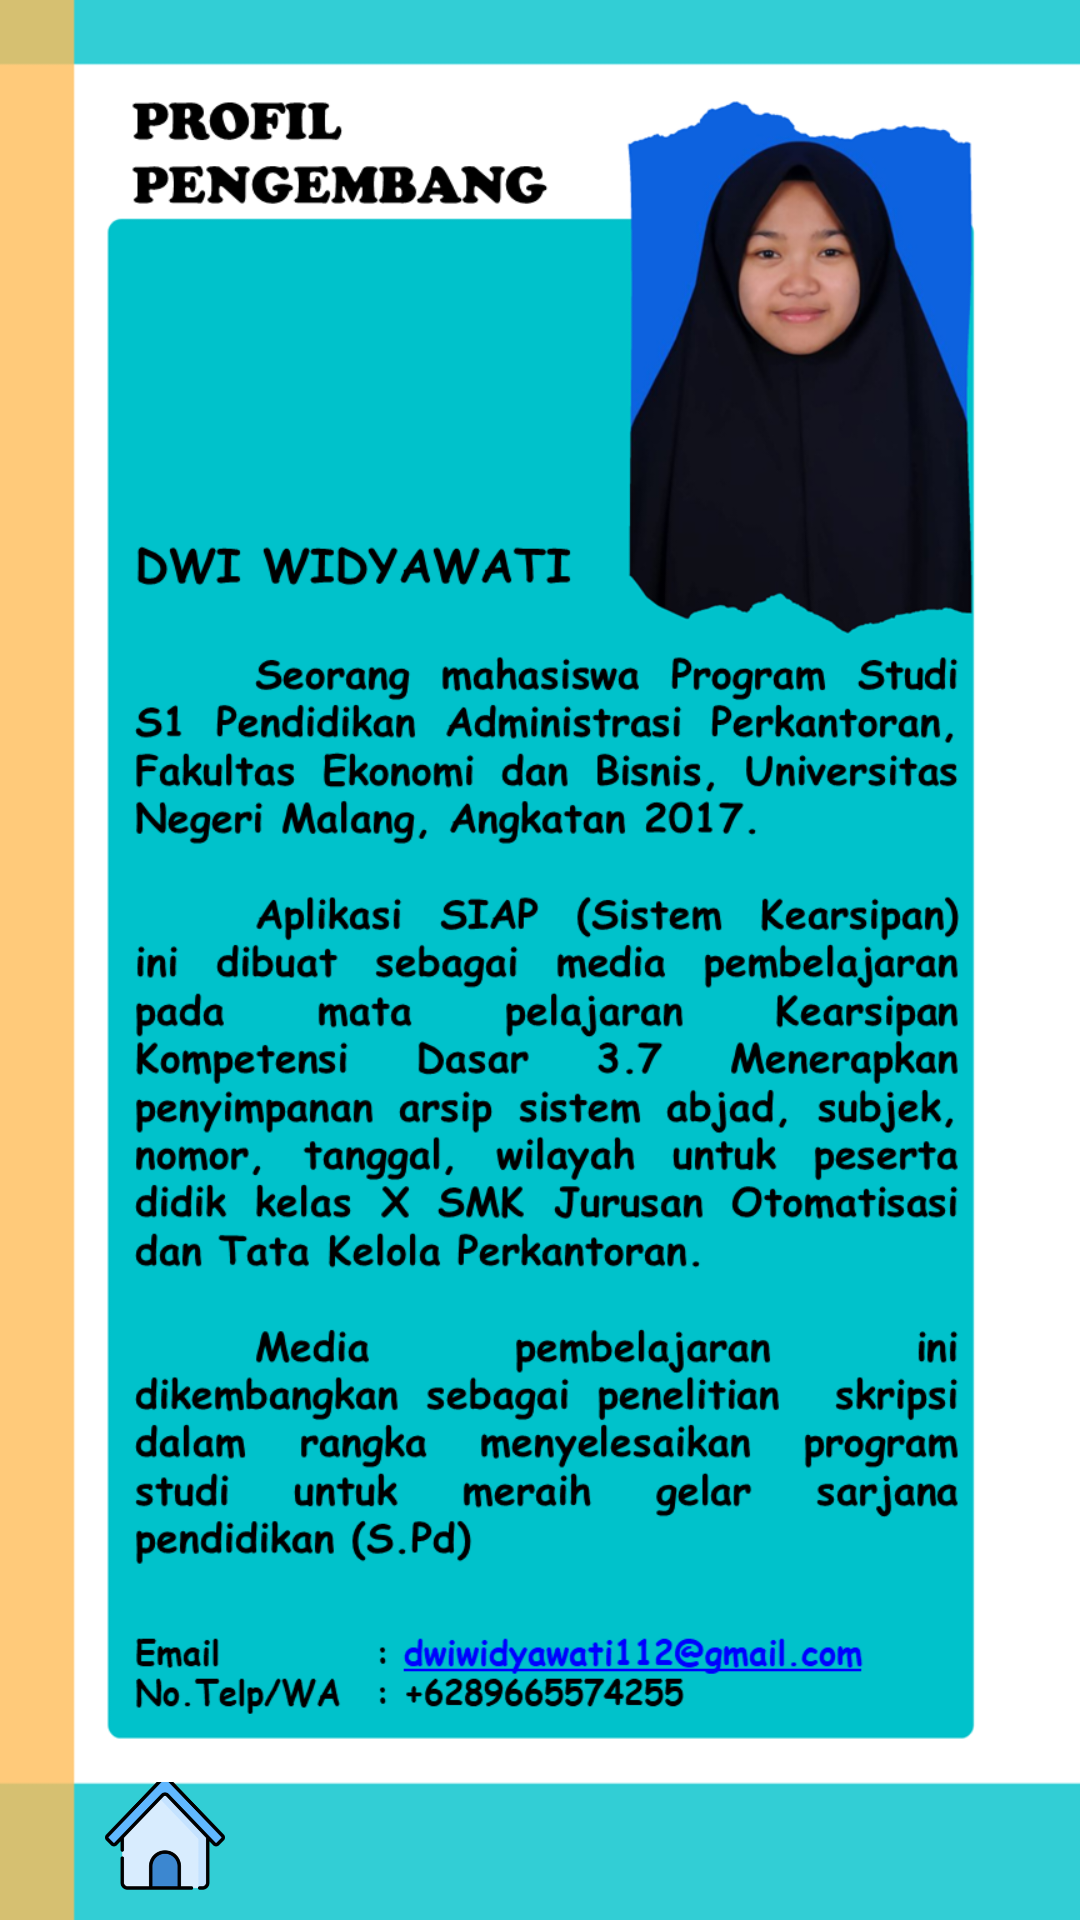

Screen size 1080x1920. Icon name, then its center in pixels as (x,y):
home: (165,1836)
